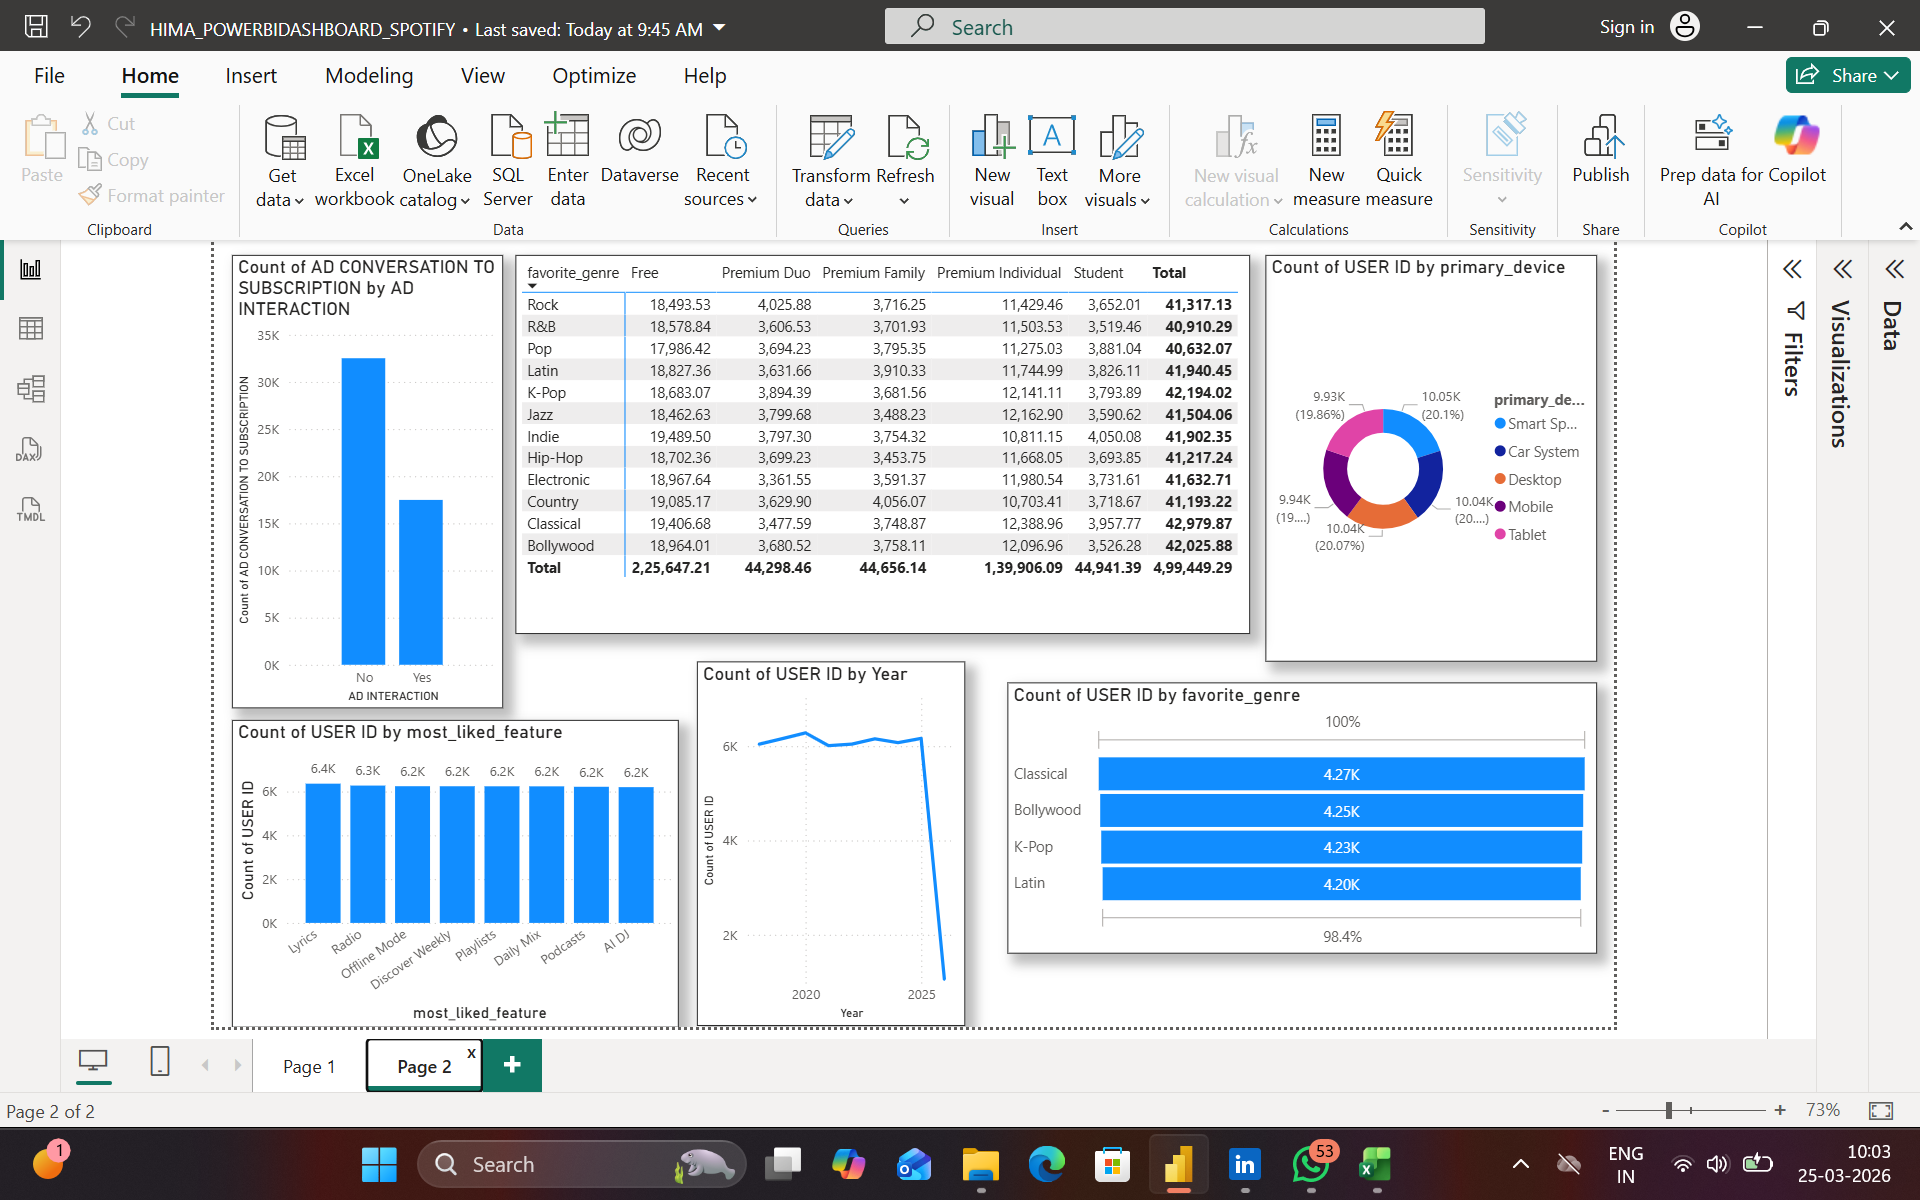

What the dashboard file says about the page in this screenshot:
{"tool":"powerbi","page":{"name":"Page 2","canvas":[1280,720],"ordinal":1},"visuals":[{"type":"columnChart","fields":{"Category":["spotify_user_behavior_realistic.AD INTERACTION"],"Y":["CountNonNull(spotify_user_behavior_realistic.AD CONVERSATION TO SUBSCRIPTION)"]},"box":[16.7,13.6,248.3,414.9],"z":0},{"type":"donutChart","fields":{"Category":["spotify_user_behavior_realistic.primary_device"],"Y":["CountNonNull(spotify_user_behavior_realistic.USER ID)"]},"box":[962,13.7,303.3,371.9],"z":1000},{"type":"columnChart","fields":{"Category":["spotify_user_behavior_realistic.most_liked_feature"],"Y":["CountNonNull(spotify_user_behavior_realistic.USER ID)"]},"box":[16.7,439.1,408.8,281.6],"z":2000},{"type":"lineChart","fields":{"Category":["spotify_user_behavior_realistic.SIGNUP DATE.Variation.Date Hierarchy.Year"],"Y":["CountNonNull(spotify_user_behavior_realistic.USER ID)"]},"box":[442.1,386.1,245.3,333.1],"z":3000},{"type":"pivotTable","fields":{"Rows":["spotify_user_behavior_realistic.favorite_genre"],"Columns":["spotify_user_behavior_realistic.SUBSCRIPTION TYPE"],"Values":["Sum(spotify_user_behavior_realistic.avg_listening_hours_per_week)"]},"box":[275.6,13.6,672.3,346.8],"z":4000},{"type":"funnel","fields":{"Category":["spotify_user_behavior_realistic.favorite_genre"],"Y":["CountNonNull(spotify_user_behavior_realistic.USER ID)"]},"box":[725.3,404.3,539.1,248.3],"z":5000}]}

Visuals, with their boxes on the page's 1280x720 design canvas (x1, y1, x2, y2). These are canvas units, not pixel positions in the 1920x1200 screenshot, which may show the page scaled, cropped or inside an application window:
columnChart - spotify_user_behavior_realistic.AD INTERACTION x CountNonNull(spotify_user_behavior_realistic.AD CONVERSATION TO SUBSCRIPTION): (17,14,265,428)
donutChart - spotify_user_behavior_realistic.primary_device x CountNonNull(spotify_user_behavior_realistic.USER ID): (962,14,1265,386)
columnChart - spotify_user_behavior_realistic.most_liked_feature x CountNonNull(spotify_user_behavior_realistic.USER ID): (17,439,426,721)
lineChart - spotify_user_behavior_realistic.SIGNUP DATE.Variation.Date Hierarchy.Year x CountNonNull(spotify_user_behavior_realistic.USER ID): (442,386,687,719)
pivotTable - spotify_user_behavior_realistic.favorite_genre x spotify_user_behavior_realistic.SUBSCRIPTION TYPE: (276,14,948,360)
funnel - spotify_user_behavior_realistic.favorite_genre x CountNonNull(spotify_user_behavior_realistic.USER ID): (725,404,1264,653)
